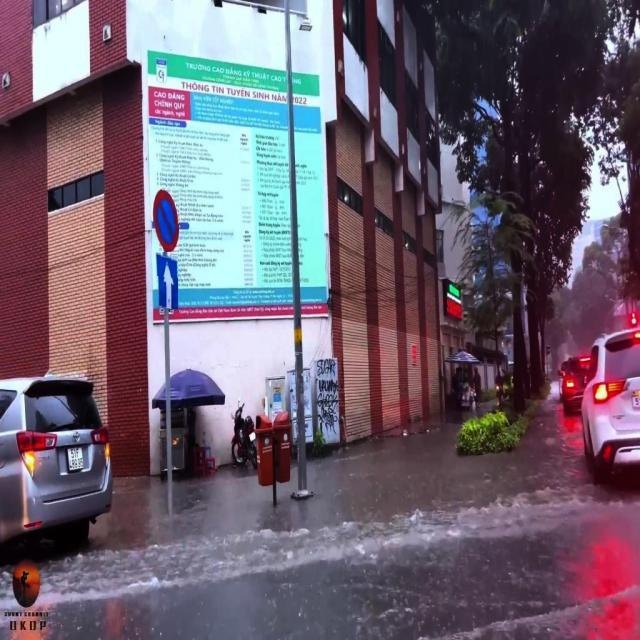131a-cam-do-xe: (153, 190, 179, 252)
407a-duong-mot-chieu: (156, 253, 178, 309)
